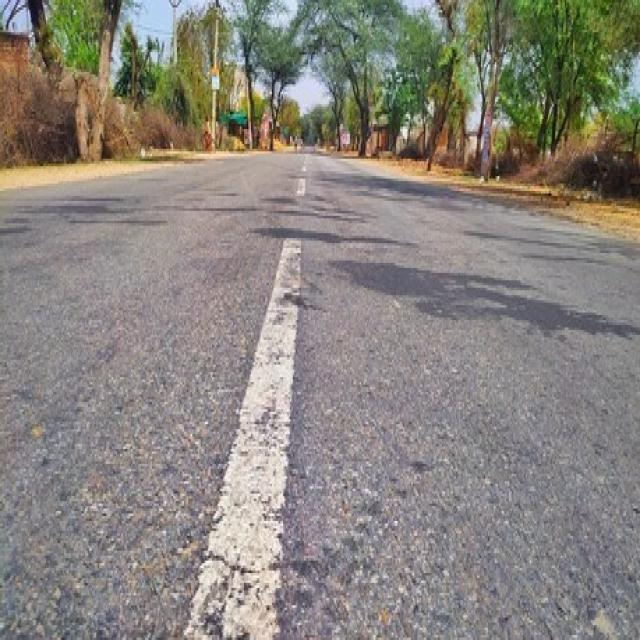Clean road: (0, 168, 640, 640)
